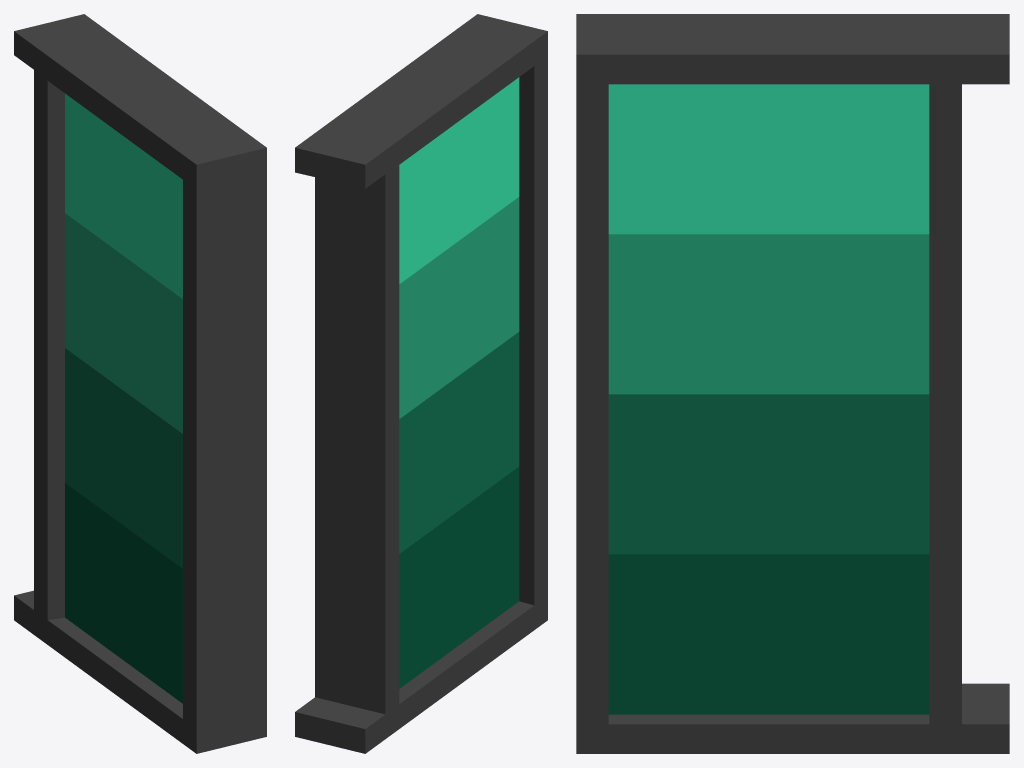
File: neonSignC.fbx
3 renders of one model, left to right at view 1: azimuth 30°, elevation 25°; view 2: azimuth 150°, elevation 25°; view 3: azimuth 270°, elevation 25°, orthographic. The views are drawn at different scales.
Parts seen in each view (by area): view 1: NeonSign C; view 2: NeonSign C; view 3: NeonSign C.
Boxes of the visible parts, left/top/right/bottom form: NeonSign C: left=14, top=14, right=266, bottom=753; NeonSign C: left=295, top=14, right=547, bottom=753; NeonSign C: left=576, top=14, right=1009, bottom=753.
Size of the model in its own units: 50 by 400 by 225.
